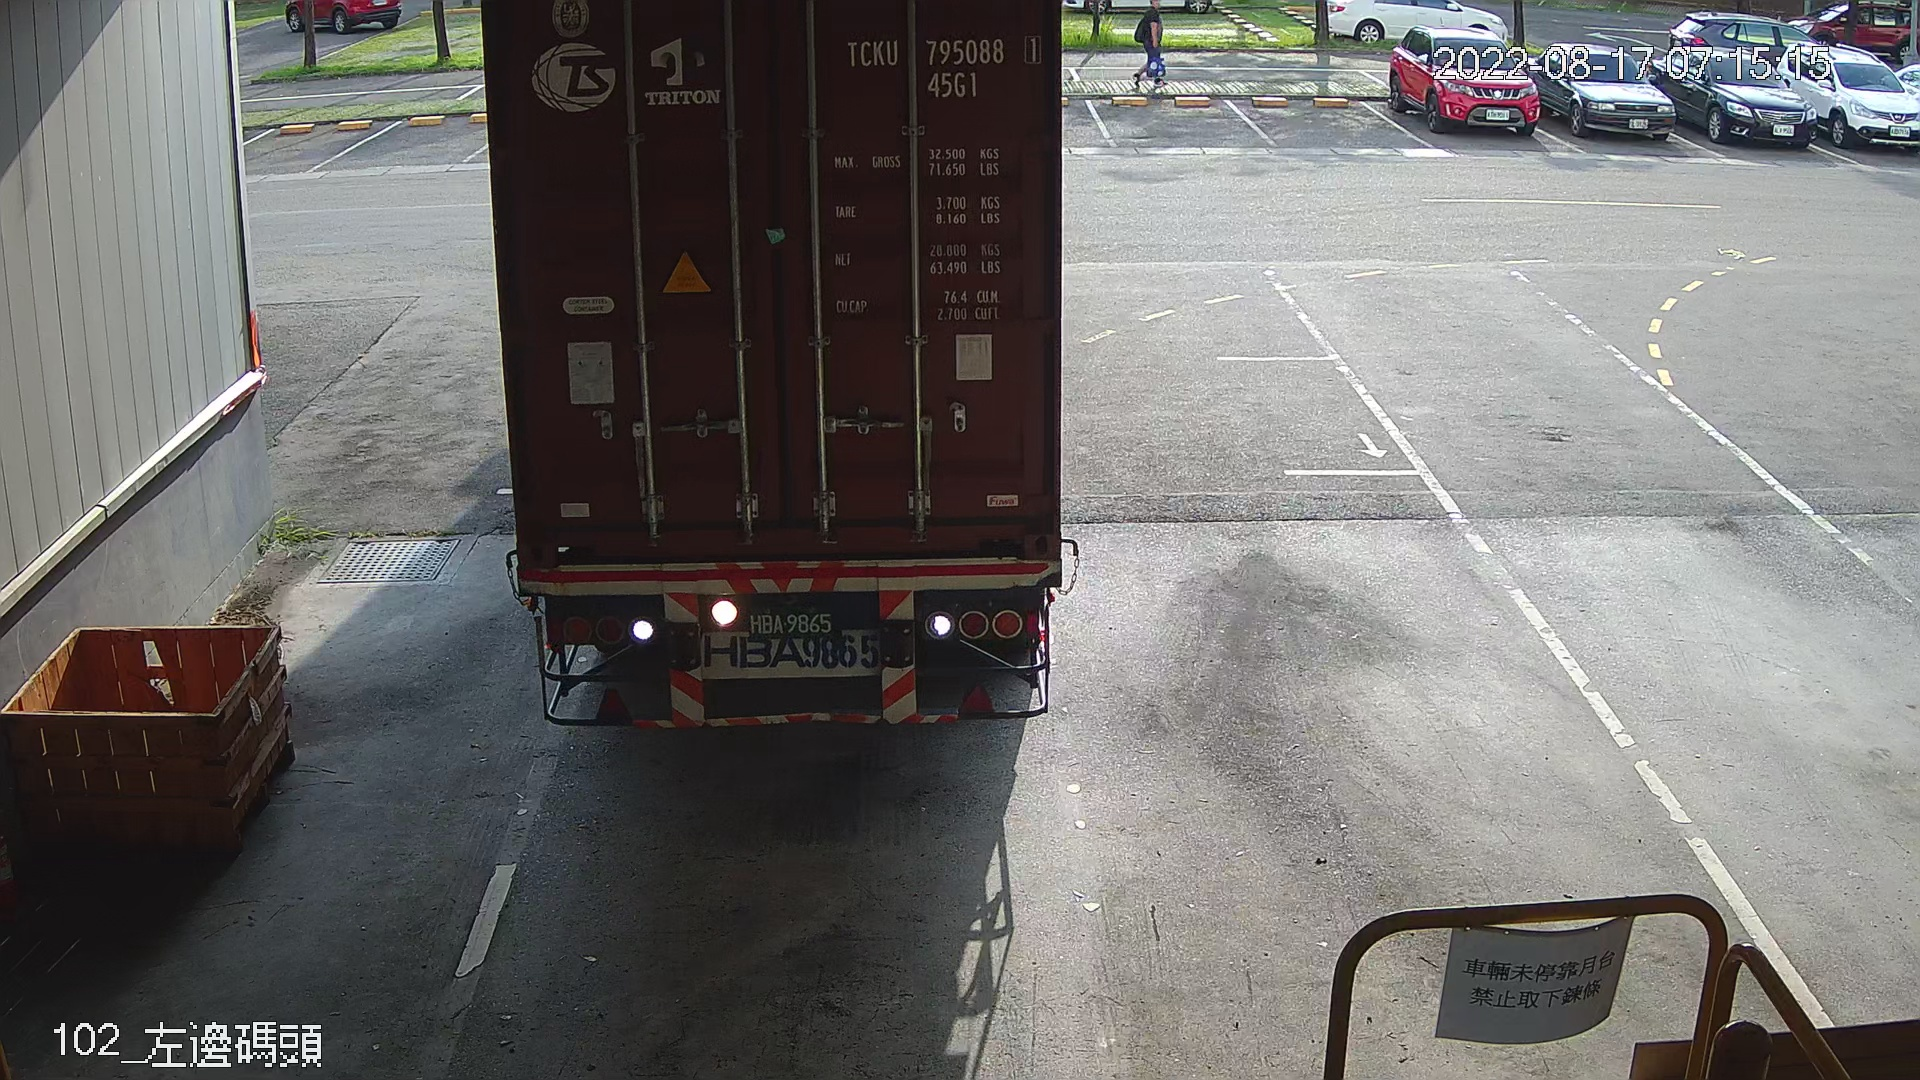container: (831, 26, 1051, 107)
